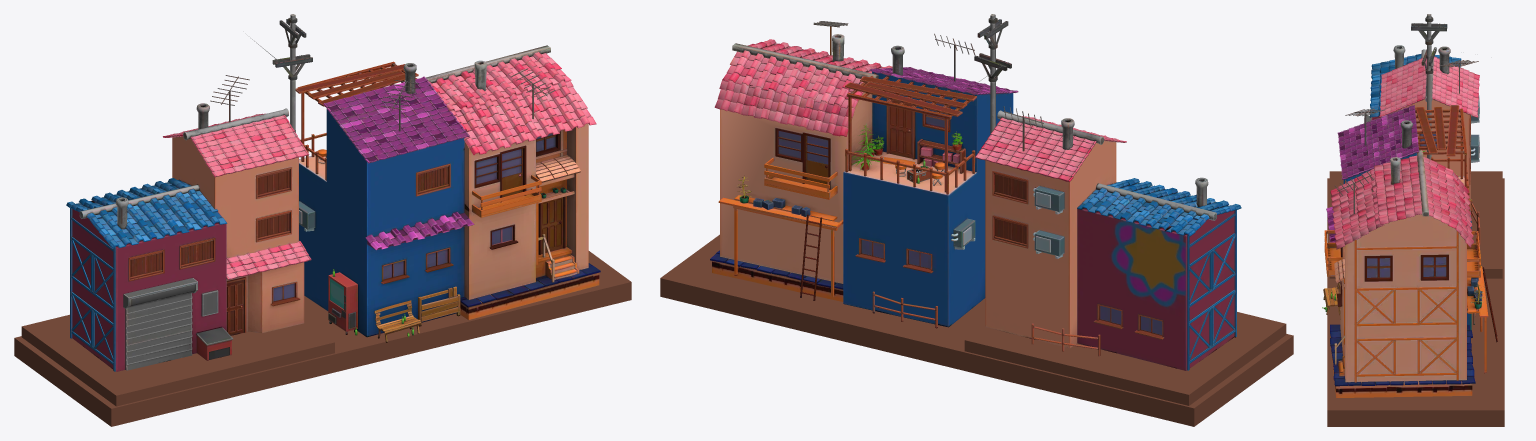
The model's file is rightBuildingsNew.glb.
3 views of the same model, side by side, from view 1: azimuth 30°, elevation 25°; view 2: azimuth 150°, elevation 25°; view 3: azimuth 270°, elevation 25° (orthographic). The views are drawn at different scales.
Size of the model in its own units: 557 by 320 by 202.
6 materials, 5 textured.
